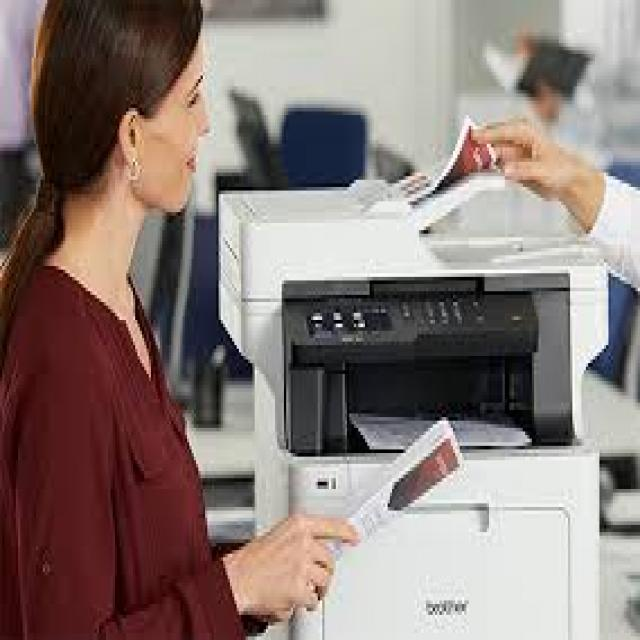printer: (207, 144, 622, 640)
